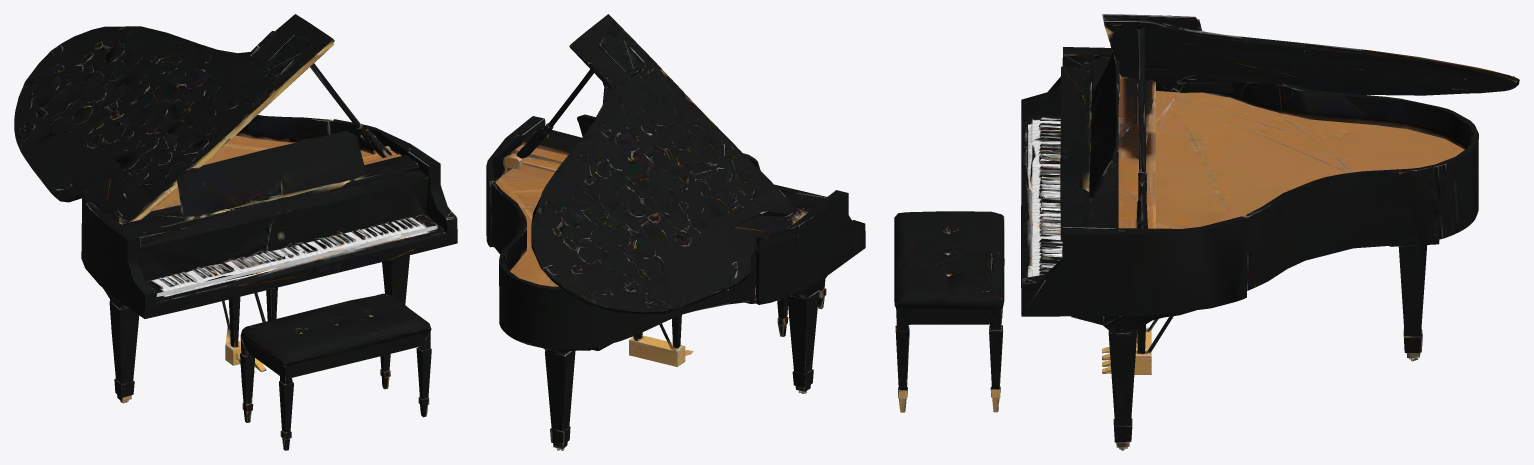
File: grand-piano-v1.glb
3 views of the same model, side by side, from view 1: azimuth 30°, elevation 25°; view 2: azimuth 150°, elevation 25°; view 3: azimuth 270°, elevation 25° (orthographic). The views are drawn at different scales.
Size of the model in its own units: 1.91 by 1.87 by 2.7.
1 material, 1 textured.
